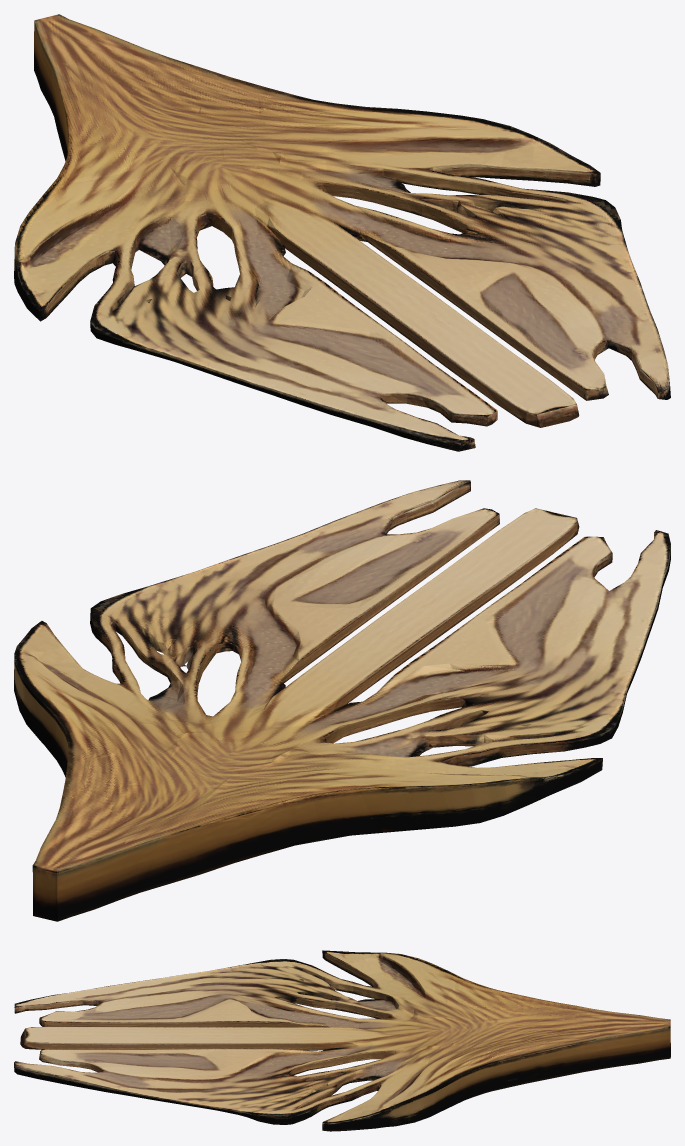
Rendered from wooden-fork-dune.jpeg.glb.
3 views of the same model, one above another, from view 1: azimuth 30°, elevation 25°; view 2: azimuth 150°, elevation 25°; view 3: azimuth 270°, elevation 25° (orthographic). The views are drawn at different scales.
Parts seen in each view (by area): view 1: world; view 2: world; view 3: world.
Boxes of the visible parts, <box> form: world: <box>14,14,670,451</box>; world: <box>14,480,670,921</box>; world: <box>14,950,670,1131</box>.
Bounding box in the file's own units: 0.6237 × 0.0547 × 1.
Materials: 1 (1 with a texture image).
